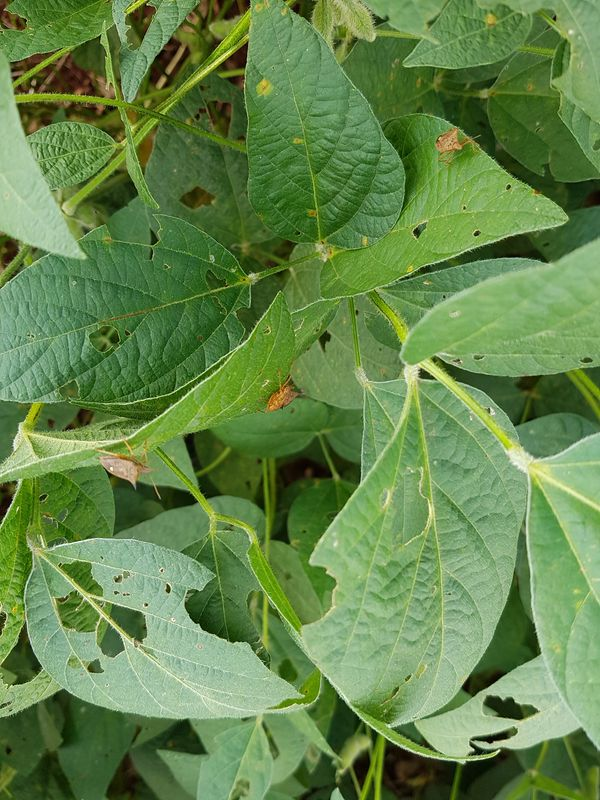Euschistus_heros_adulto: (85, 433, 166, 506), (254, 367, 311, 420), (427, 119, 485, 169)
